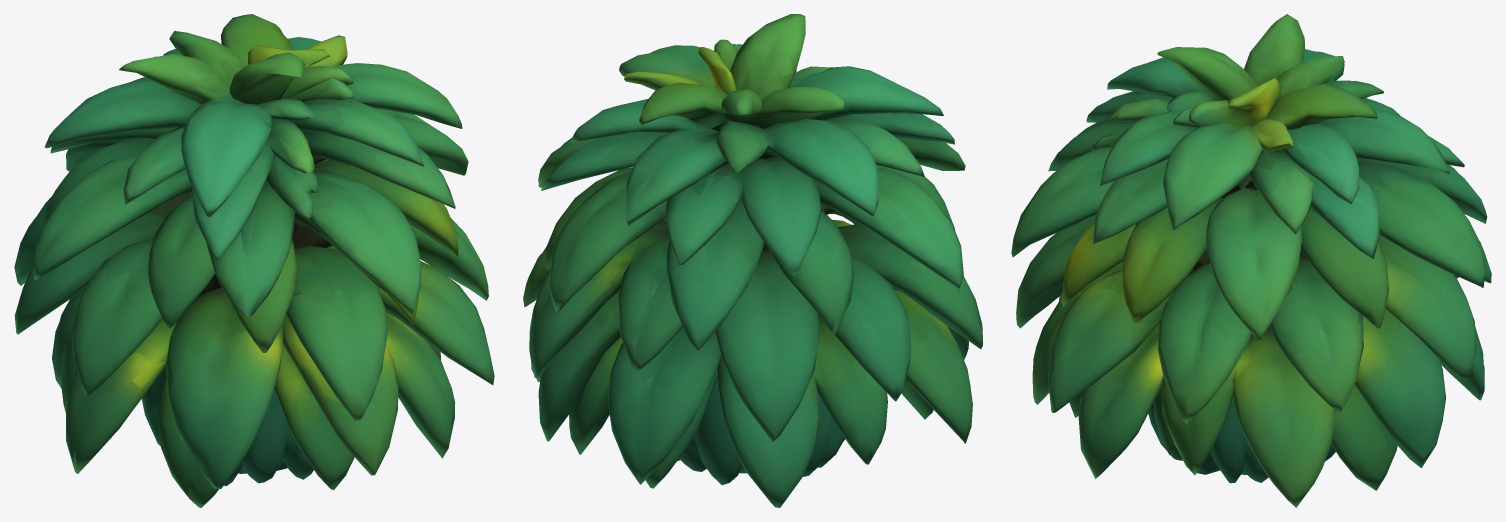
File: bush_broadleaf.glb
3 renders of one model, left to right at view 1: azimuth 30°, elevation 25°; view 2: azimuth 150°, elevation 25°; view 3: azimuth 270°, elevation 25°, orthographic. The views are drawn at different scales.
Visible parts, largest first — view 1: tripo_node_1837ec05-f9a9-4f14-8111-d92840d6dfb8; view 2: tripo_node_1837ec05-f9a9-4f14-8111-d92840d6dfb8; view 3: tripo_node_1837ec05-f9a9-4f14-8111-d92840d6dfb8.
Part boxes in pixels (x1,y1,x2,y2): tripo_node_1837ec05-f9a9-4f14-8111-d92840d6dfb8: (14, 14, 494, 507); tripo_node_1837ec05-f9a9-4f14-8111-d92840d6dfb8: (523, 14, 982, 507); tripo_node_1837ec05-f9a9-4f14-8111-d92840d6dfb8: (1011, 14, 1491, 507).
Size of the model in its own units: 1.08 by 0.9986 by 1.07.
Materials: 1 (1 with a texture image).
